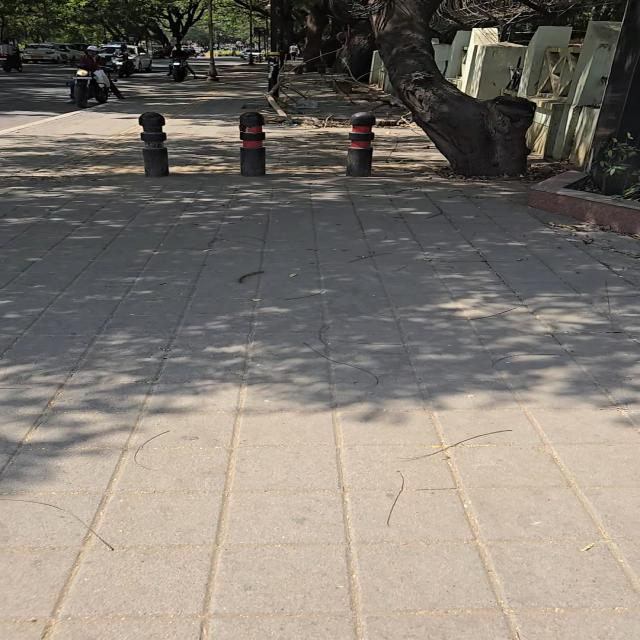bench: (139, 112, 169, 177), (347, 112, 375, 176), (240, 112, 266, 176), (268, 52, 279, 98)
bike: (70, 69, 109, 108), (208, 0, 219, 81), (111, 53, 134, 77), (171, 58, 187, 81), (249, 2, 254, 65)
